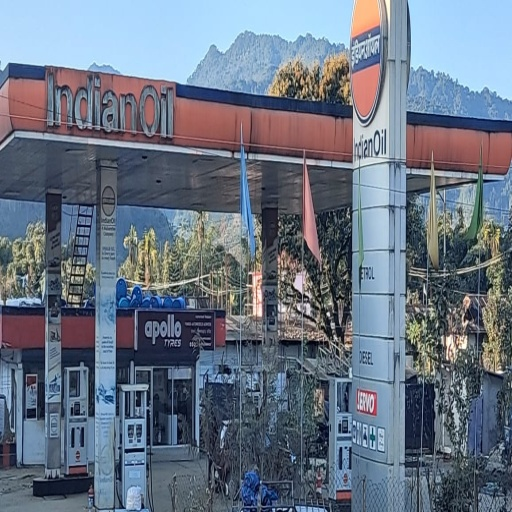roof: (1, 63, 510, 220)
